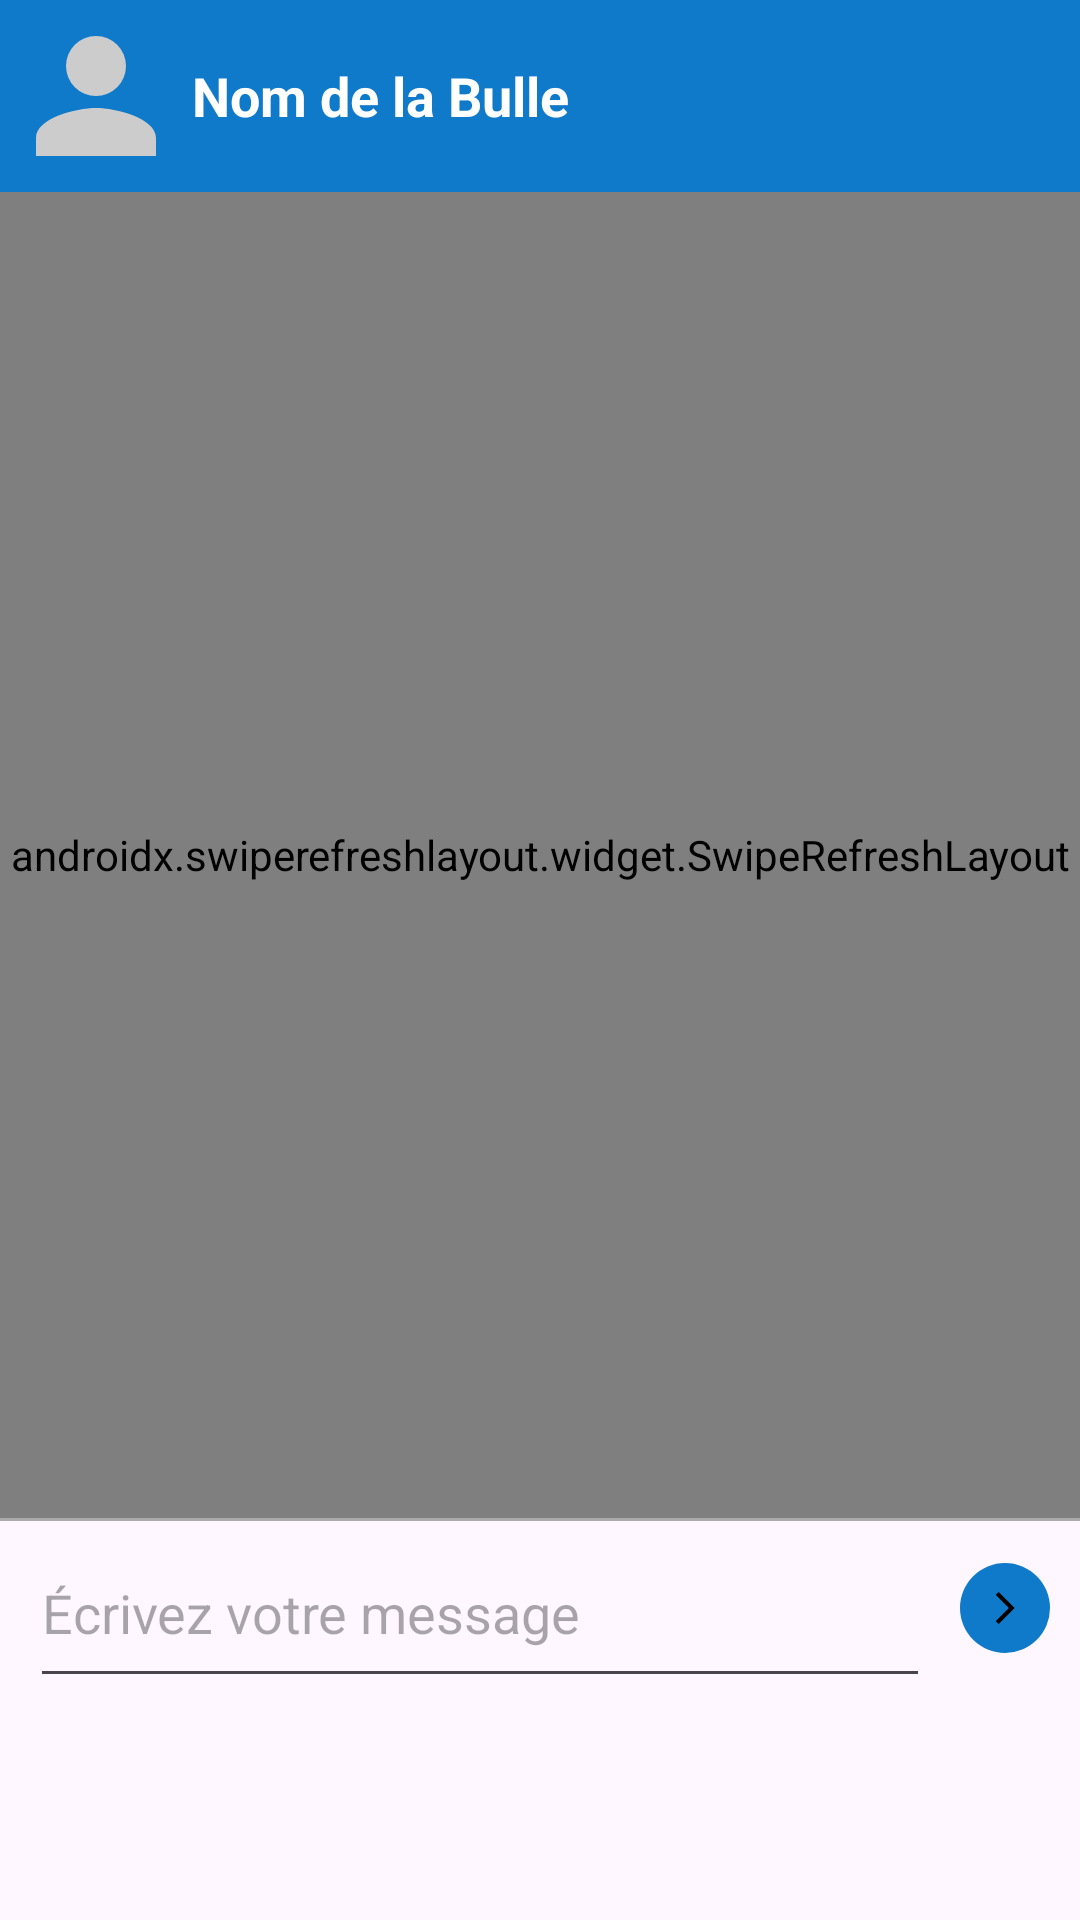

Icon click points for this 1080px×1920px phone screenshot, format (x,y):
send: (1005,1608)
